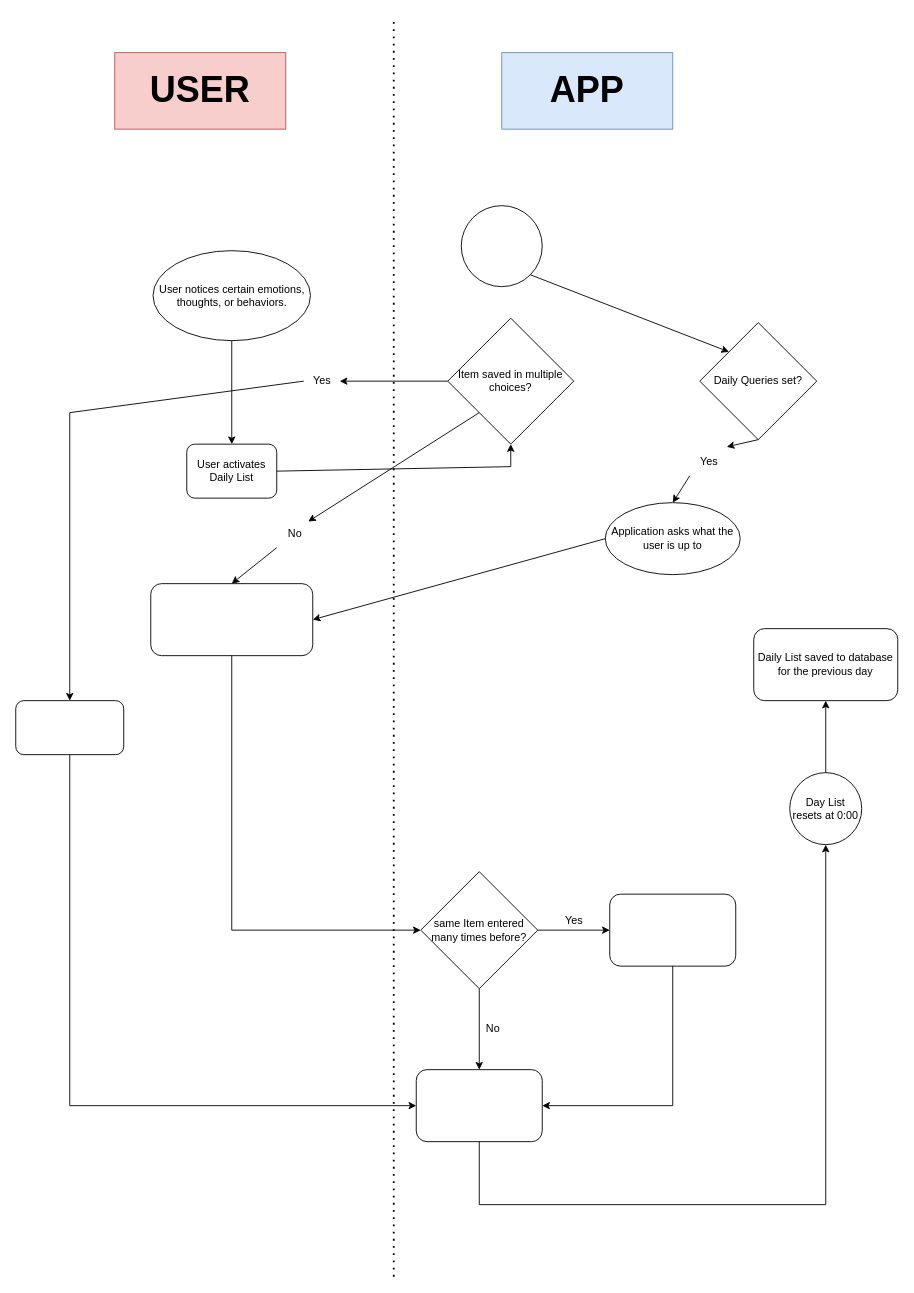
Some shapes in this 914 by 1293 pixel diagram are drawn without their labels. The shapes that lost their labels are listed below. From the top down, each one's box as (x1, y1, x2, y2) in pixels, then its label:
(460, 205, 542, 287): Daily List starts with an empty list
(150, 583, 313, 656): User enters emotions, thoughts, behaviors, physical symptoms.
(15, 700, 124, 755): User chooses among multiple choices
(609, 893, 736, 966): Item saved for multiple choices
(415, 1069, 542, 1142): Item saved for Daily List
